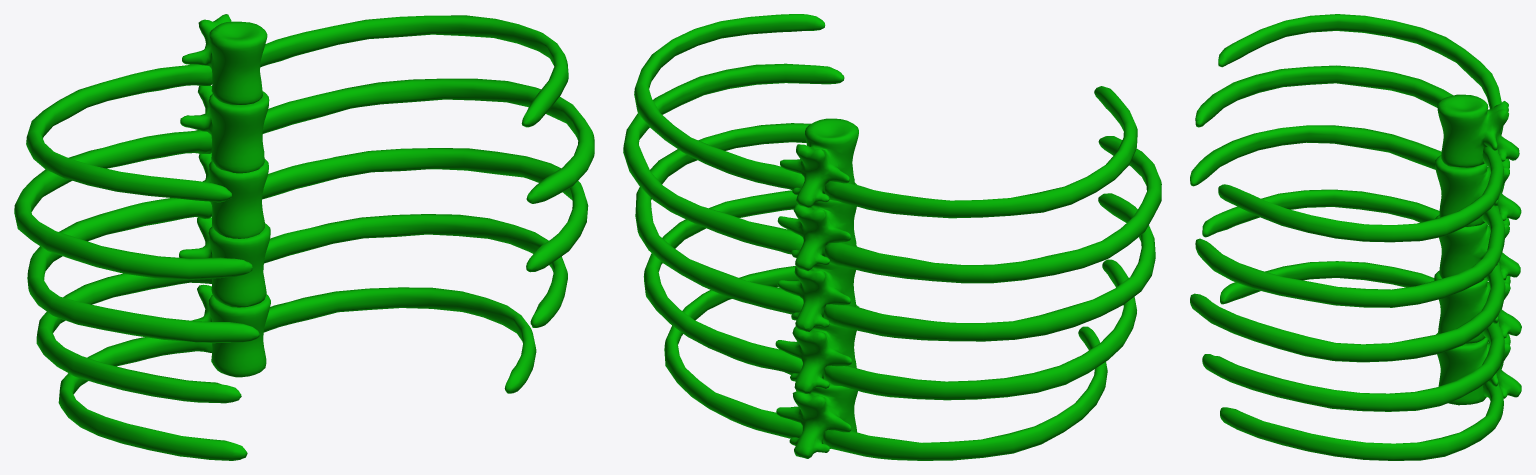
The model's file is Env_DragonSkeleton_Body.fbx.
3 views of the same model, side by side, from view 1: azimuth 30°, elevation 25°; view 2: azimuth 150°, elevation 25°; view 3: azimuth 270°, elevation 25° (orthographic). The views are drawn at different scales.
Visible parts, largest first — view 1: côte_low, colonne_low; view 2: côte_low, colonne_low; view 3: côte_low, colonne_low.
Boxes of the visible parts, x1,y1,x2,y2 form: côte_low: (14,15,594,460); colonne_low: (179,14,270,377); côte_low: (623,14,1161,460); colonne_low: (775,118,859,458); côte_low: (1190,14,1505,460); colonne_low: (1434,94,1521,405).
Bounding box in the file's own units: 597 × 360 × 369.
